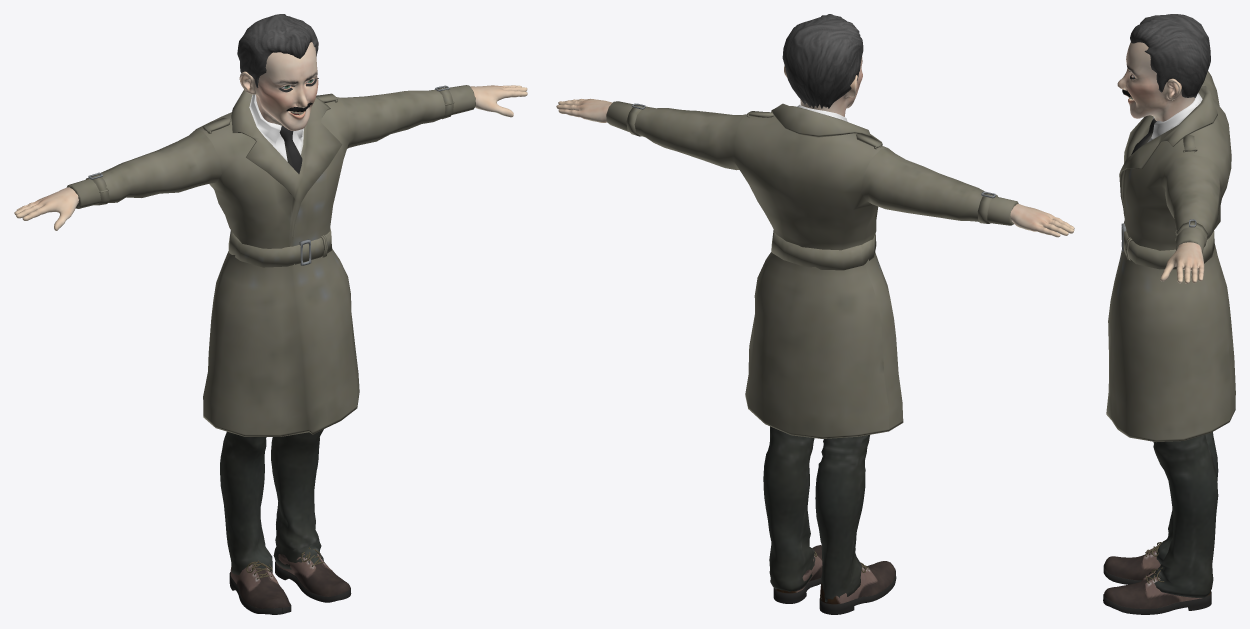
The model's file is VideoEditingMan.obj.
3 views of the same model, side by side, from view 1: azimuth 30°, elevation 25°; view 2: azimuth 150°, elevation 25°; view 3: azimuth 270°, elevation 25° (orthographic).
Parts seen in each view (by area): view 1: Tops, Bottoms, Body, Shoes, Hair; view 2: Tops, Bottoms, Hair, Body, Shoes; view 3: Tops, Bottoms, Hair, Body, Shoes.
Part boxes in pixels (box(x1,y1,x2,y2)): Tops: box(66, 85, 475, 436); Bottoms: box(220, 429, 323, 574); Body: box(14, 42, 527, 230); Shoes: box(229, 547, 351, 614); Hair: box(237, 14, 318, 87); Tops: box(606, 101, 1018, 438); Bottoms: box(763, 426, 869, 602); Hair: box(782, 14, 863, 108); Body: box(556, 57, 1074, 237); Shoes: box(773, 545, 896, 614); Tops: box(1106, 71, 1235, 442); Bottoms: box(1148, 432, 1218, 597); Hair: box(1130, 14, 1210, 97); Body: box(1117, 42, 1204, 283); Shoes: box(1103, 540, 1211, 614).
Size of the model in its own units: 176 by 186 by 39.04.
